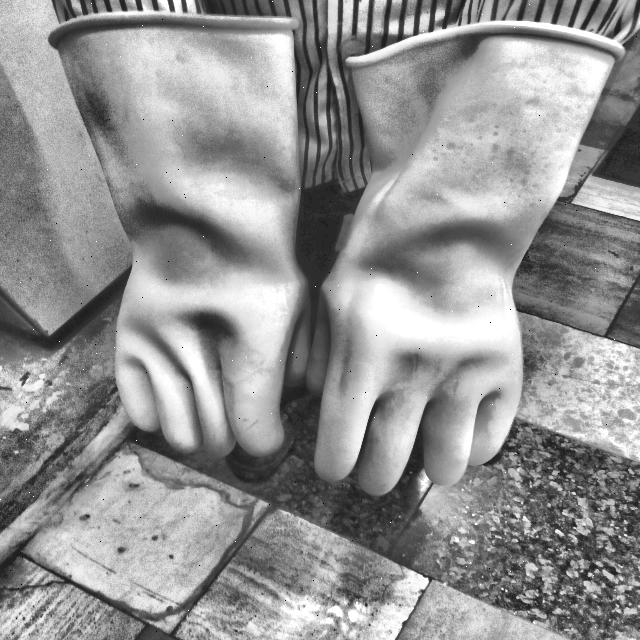gloved: (294, 19, 624, 498), (44, 8, 319, 462)
